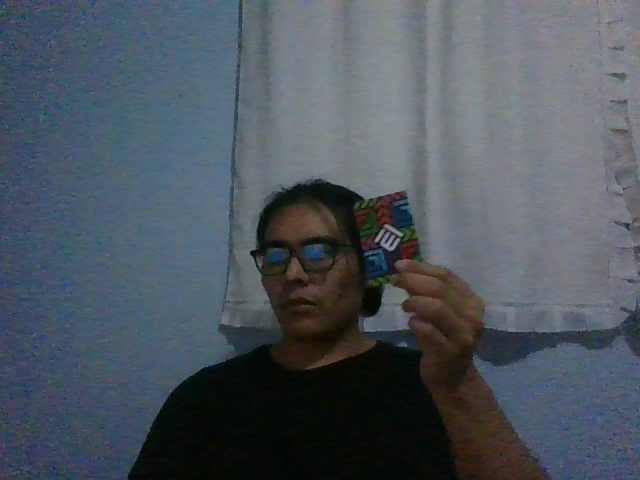tarjeta: (351, 190, 423, 287)
